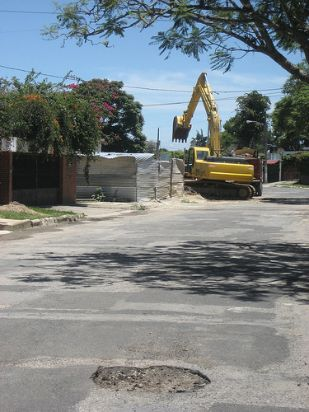pothole: (88, 361, 211, 398)
